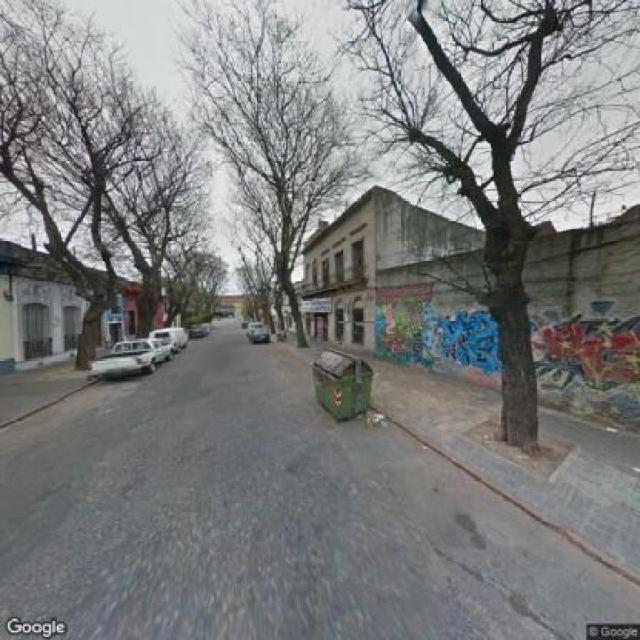garbage: (352, 399, 390, 435)
